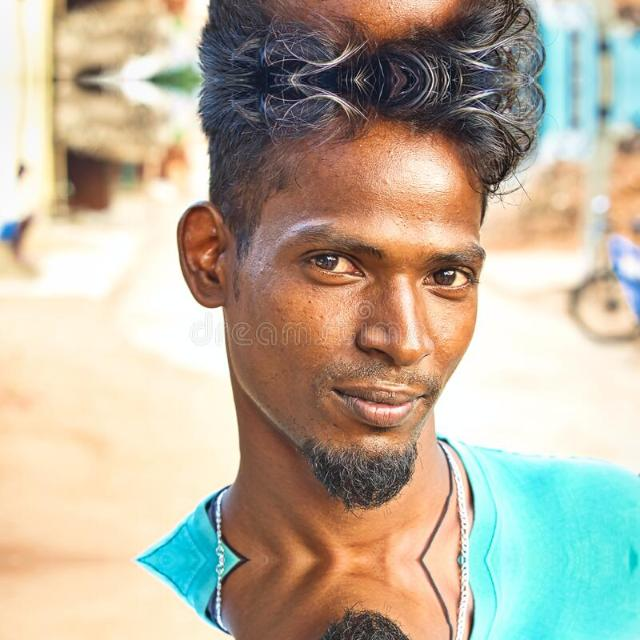person: (137, 80, 616, 560), (136, 0, 615, 80), (136, 560, 615, 640)
